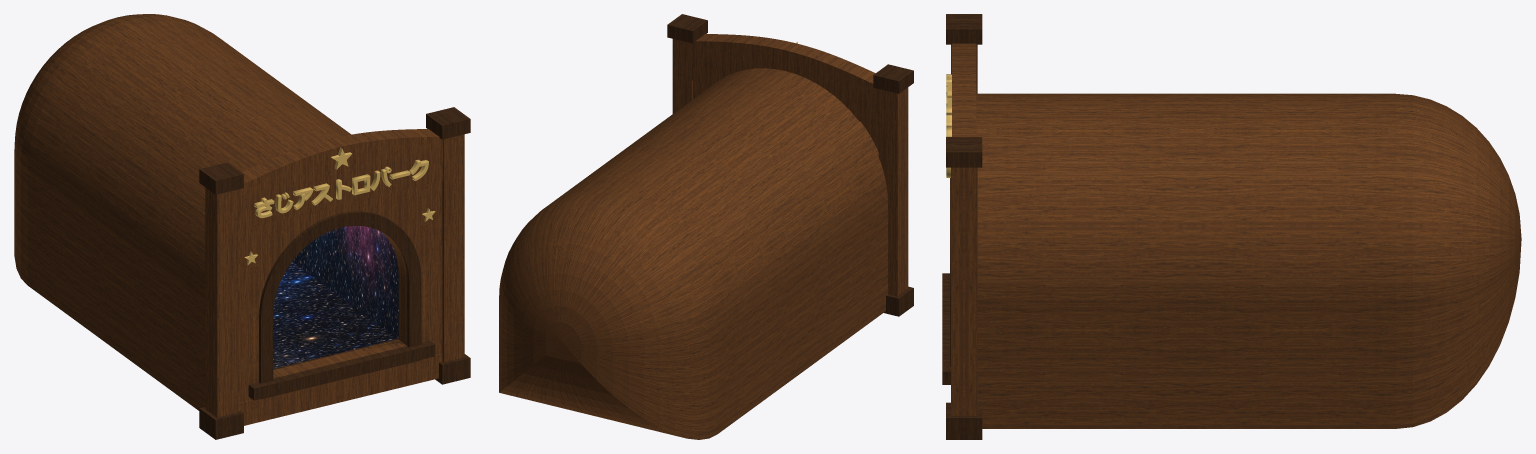
Rendered from HOSHIMADO-0010.glb.
3 renders of one model, left to right at view 1: azimuth 30°, elevation 25°; view 2: azimuth 150°, elevation 25°; view 3: azimuth 270°, elevation 25°, orthographic. The views are drawn at different scales.
Visible parts, largest first — view 1: room_outer, room_inner, panel_main, post_L, trim_arch, board_text, pediment, post_R, rail_bottom, sill, SignText, cap_L (+3 smaller); view 2: room_outer, post_L, pediment, board_text, post_R, cap_L, cap_R, base_L, panel_main; view 3: room_outer, post_R, pediment, cap_R, cap_L, base_R, sill.
Part boxes in pixels (x1,y1,x2,y2): room_outer: (14, 14, 351, 410); room_inner: (273, 226, 398, 368); panel_main: (238, 180, 442, 402); post_L: (205, 187, 237, 417); trim_arch: (259, 211, 421, 399); board_text: (238, 145, 443, 230); pediment: (238, 129, 443, 194); post_R: (442, 134, 464, 362); rail_bottom: (238, 353, 442, 425); sill: (248, 338, 435, 400); SignText: (254, 159, 428, 218); cap_L: (199, 162, 243, 194); room_outer: (499, 68, 887, 439); post_L: (878, 87, 908, 296); pediment: (692, 34, 878, 93); board_text: (692, 48, 878, 125); post_R: (672, 39, 692, 113); cap_L: (873, 64, 913, 93); cap_R: (667, 14, 707, 43); base_L: (884, 286, 913, 316); panel_main: (693, 81, 878, 151); room_outer: (976, 93, 1521, 428); post_R: (951, 167, 977, 415); pediment: (952, 43, 976, 136); cap_R: (946, 137, 982, 167); cap_L: (946, 14, 982, 44); base_R: (946, 402, 982, 439); sill: (942, 273, 950, 384).
Size of the model in its own units: 1.35 by 1.32 by 2.39.
Materials: 4 (3 with a texture image).
